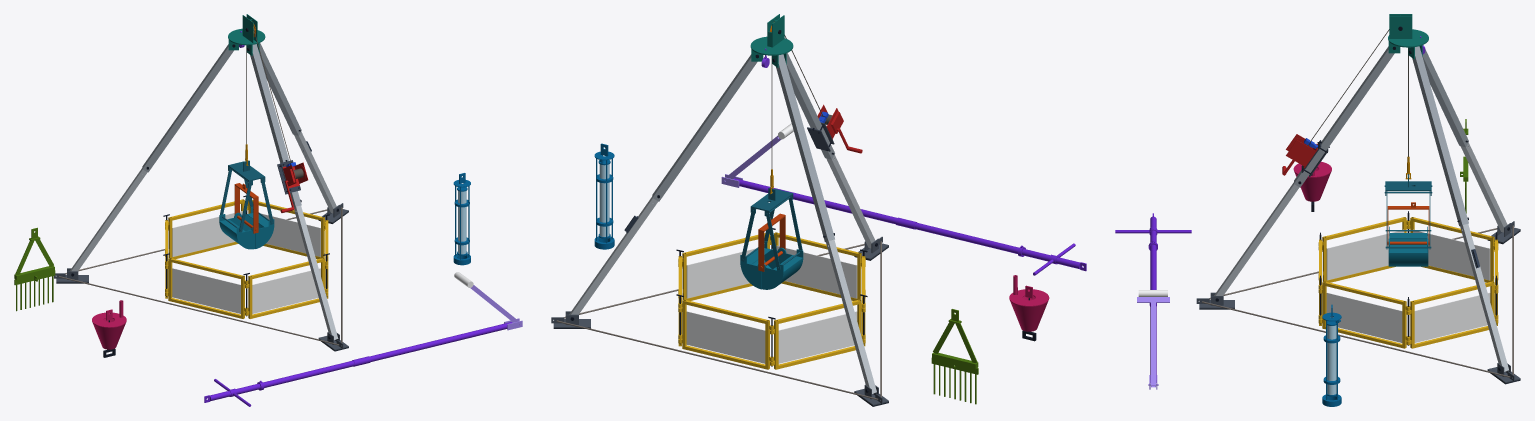
The picture shows the model from 3 angles, left to right: view 1: azimuth 30°, elevation 25°; view 2: azimuth 150°, elevation 25°; view 3: azimuth 270°, elevation 25°; orthographic projection. The views are drawn at different scales.
Parts seen in each view (by area): view 1: Rim guard splash boards, HDPE (6), Rim guard panels (6), Upper legs, 60 mm square aluminium (3), Lower legs, 50 mm square aluminium (3), DomeReach pole and tiller, Rake head, Grab shells (2), Grab head beam, tag rods and pins, Leg-spread chains (3), Retrieval head, Tripod head with mast cheeks, Sampler head (+4 smaller); view 2: Rim guard splash boards, HDPE (6), Rim guard panels (6), Upper legs, 60 mm square aluminium (3), Lower legs, 50 mm square aluminium (3), DomeReach pole and tiller, Rake head, Grab shells (2), Grab head beam, tag rods and pins, Leg-spread chains (3), Retrieval head, Tripod head with mast cheeks, Sampler head (+5 smaller); view 3: Rim guard splash boards, HDPE (6), Rim guard panels (6), Upper legs, 60 mm square aluminium (3), Lower legs, 50 mm square aluminium (3), Grab shells (2), Leg-spread chains (3), Tripod head with mast cheeks, Grab head beam, tag rods and pins, Feet with clevis and chain lug (3), DomeReach pole and tiller, Sampler head, Retrieval head (+4 smaller).
Boxes of the visible parts, bbox=[...] form: Rim guard splash boards, HDPE (6): bbox=[168, 211, 325, 313]; Rim guard panels (6): bbox=[165, 199, 328, 318]; Upper legs, 60 mm square aluminium (3): bbox=[142, 43, 301, 207]; Lower legs, 50 mm square aluminium (3): bbox=[70, 131, 338, 340]; DomeReach pole and tiller: bbox=[204, 322, 512, 406]; Rake head: bbox=[14, 227, 55, 311]; Grab shells (2): bbox=[219, 207, 274, 249]; Grab head beam, tag rods and pins: bbox=[220, 160, 273, 232]; Leg-spread chains (3): bbox=[59, 207, 342, 345]; Retrieval head: bbox=[92, 300, 126, 349]; Tripod head with mast cheeks: bbox=[228, 14, 265, 55]; Sampler head: bbox=[453, 173, 470, 265]; Rim guard splash boards, HDPE (6): bbox=[682, 245, 861, 363]; Rim guard panels (6): bbox=[678, 232, 865, 369]; Upper legs, 60 mm square aluminium (3): bbox=[652, 53, 834, 242]; Lower legs, 50 mm square aluminium (3): bbox=[569, 154, 876, 393]; DomeReach pole and tiller: bbox=[733, 178, 1086, 275]; Rake head: bbox=[931, 309, 978, 404]; Grab shells (2): bbox=[740, 241, 803, 289]; Grab head beam, tag rods and pins: bbox=[741, 188, 802, 269]; Leg-spread chains (3): bbox=[556, 241, 881, 399]; Retrieval head: bbox=[1009, 275, 1049, 331]; Tripod head with mast cheeks: bbox=[750, 14, 793, 67]; Sampler head: bbox=[594, 143, 614, 249]; Rim guard splash boards, HDPE (6): bbox=[1322, 229, 1494, 342]; Rim guard panels (6): bbox=[1318, 217, 1498, 348]; Upper legs, 60 mm square aluminium (3): bbox=[1294, 45, 1468, 226]; Lower legs, 50 mm square aluminium (3): bbox=[1214, 142, 1508, 371]; Grab shells (2): bbox=[1388, 226, 1428, 266]; Leg-spread chains (3): bbox=[1202, 225, 1513, 377]; Tripod head with mast cheeks: bbox=[1388, 14, 1428, 59]; Grab head beam, tag rods and pins: bbox=[1384, 174, 1432, 249]; Feet with clevis and chain lug (3): bbox=[1196, 221, 1520, 382]; DomeReach pole and tiller: bbox=[1115, 213, 1191, 382]; Sampler head: bbox=[1322, 304, 1341, 406]; Retrieval head: bbox=[1293, 161, 1331, 201].
Size of the model in its own units: 3.93 by 2.52 by 3.18.
